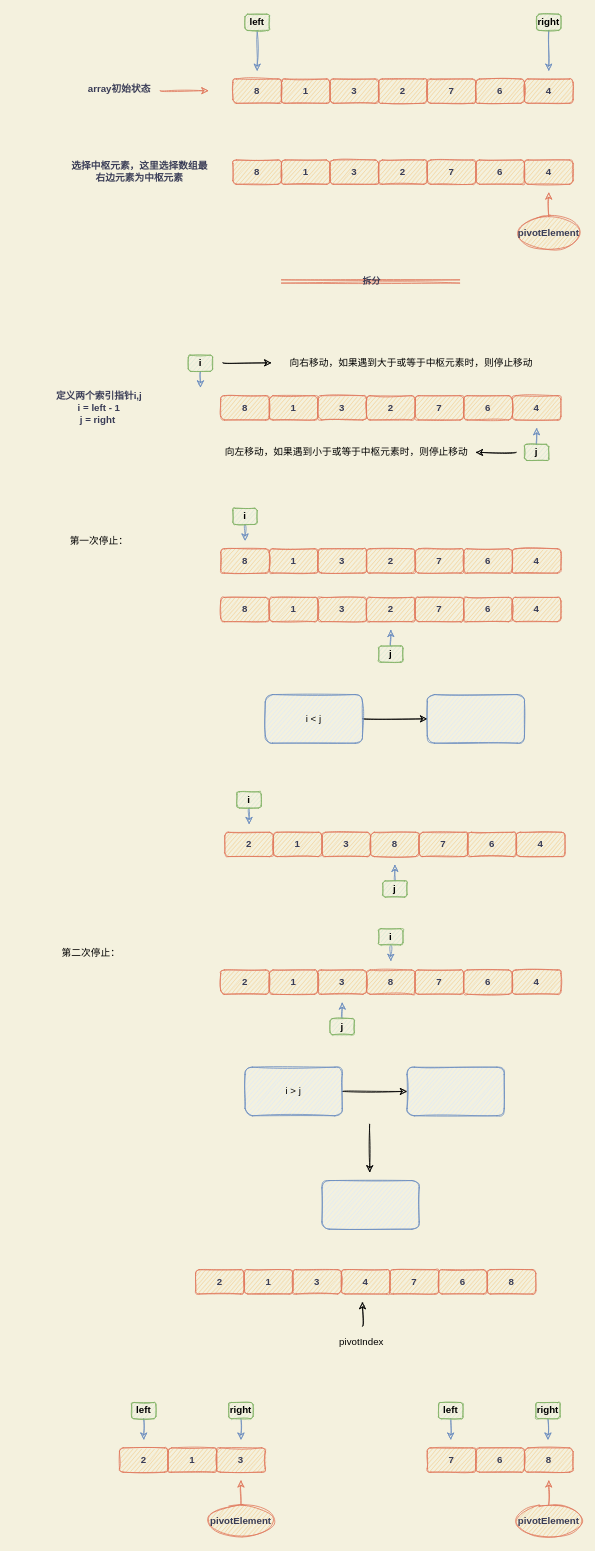
This 595x1551 diagram has some shape labels left out. Each missing label, with the centre of its shape:
swap(array[i], array[j]): the point at 475,718
swap(array[i], right): the point at 370,1204
退出扫描: the point at 455,1091
